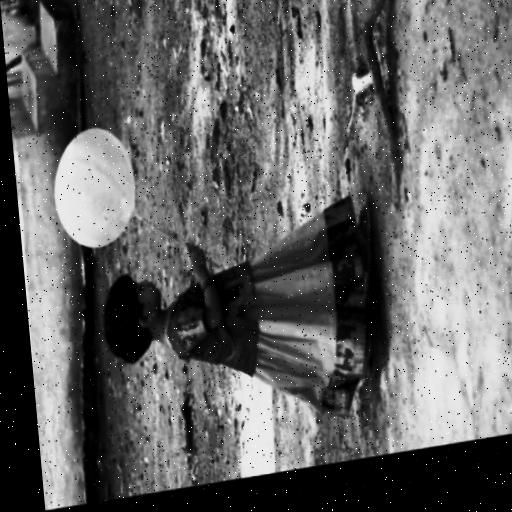balloon: (50, 122, 145, 256)
